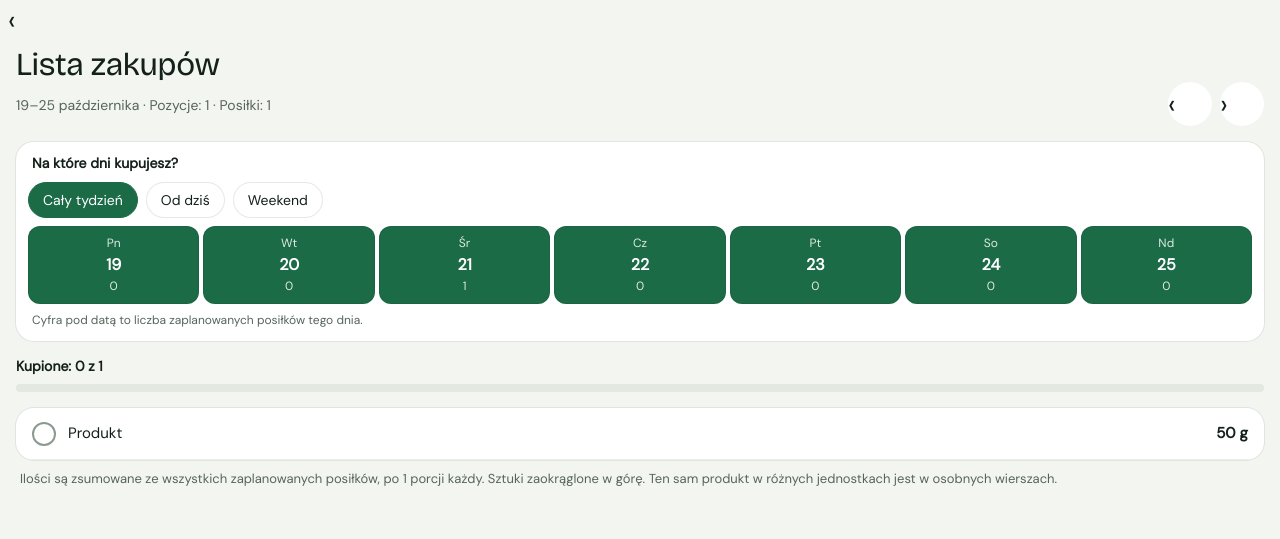
Test: nieudany zapis zachowuje stan i pozwala spróbować ponownie
The width and height of the screenshot is (1280, 539).
Click the button with aria-label "Produkt, 50 g" at (95, 433), box [16, 408, 1264, 460]
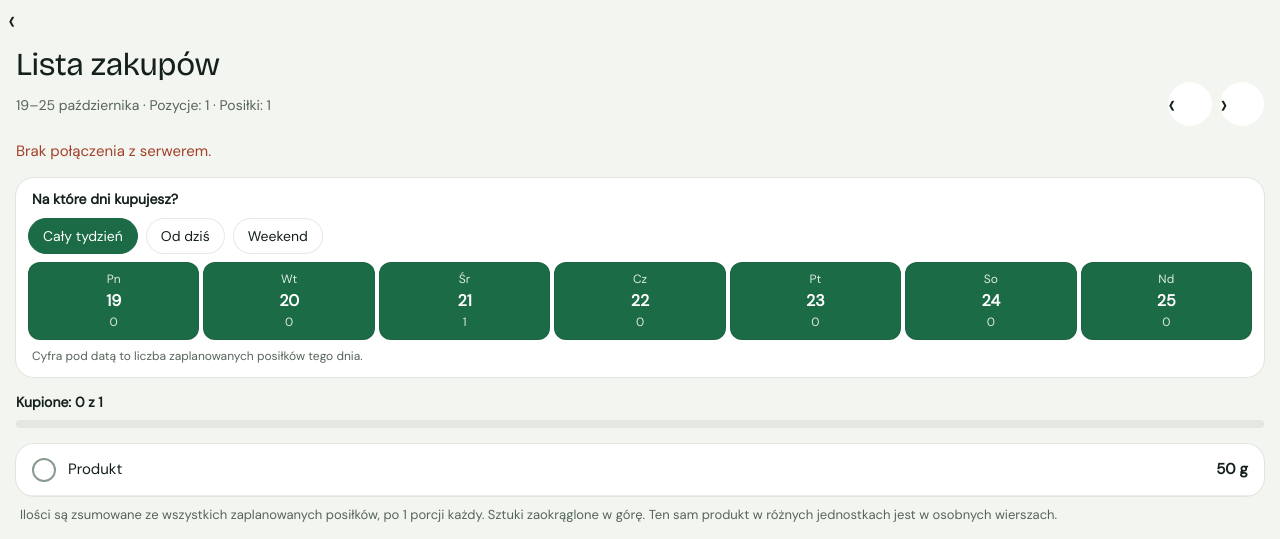
Expected: the text "Kupione: 0 z 1" is shown, [16, 393, 103, 411]
Expected: the message "Brak połączenia z serwerem." is shown, [16, 141, 211, 161]
Click the button with aria-label "Produkt, 50 g" at (95, 469), box [16, 444, 1264, 496]
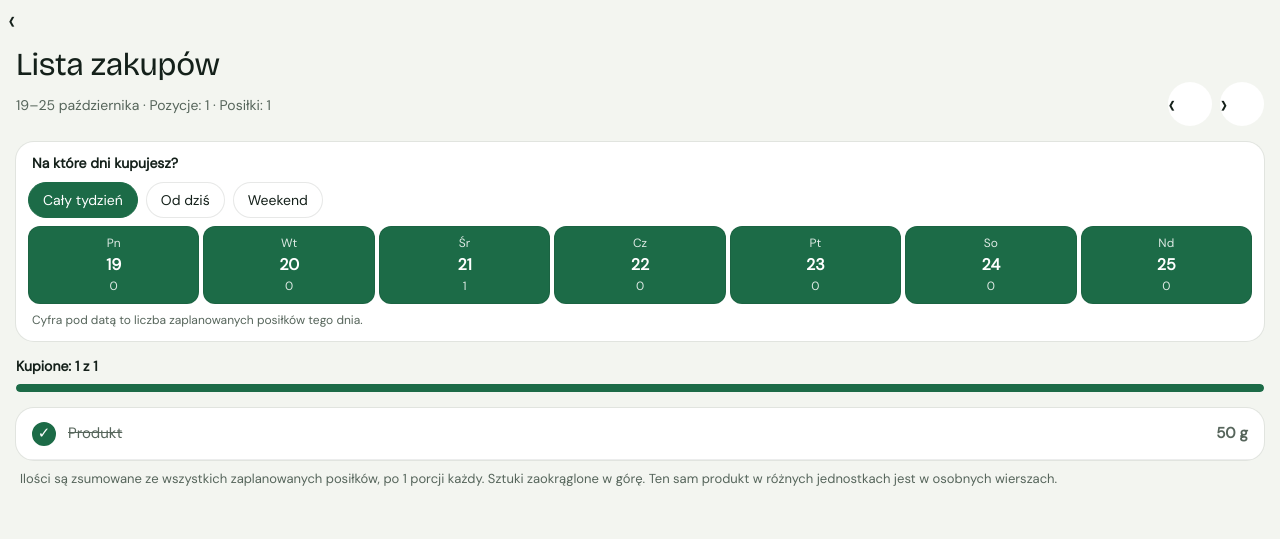
Expected: the text "Kupione: 1 z 1" is shown, [16, 357, 98, 375]
Expected: the message "Brak połączenia z serwerem." is gone
